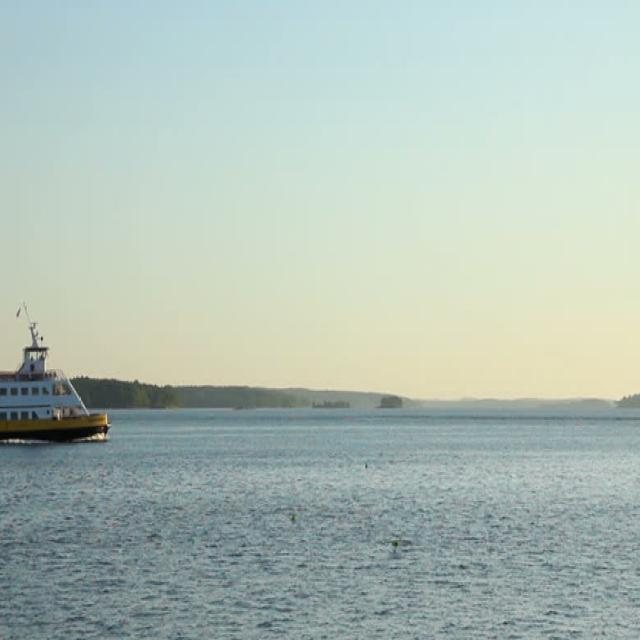passenger ship: (0, 333, 125, 463)
